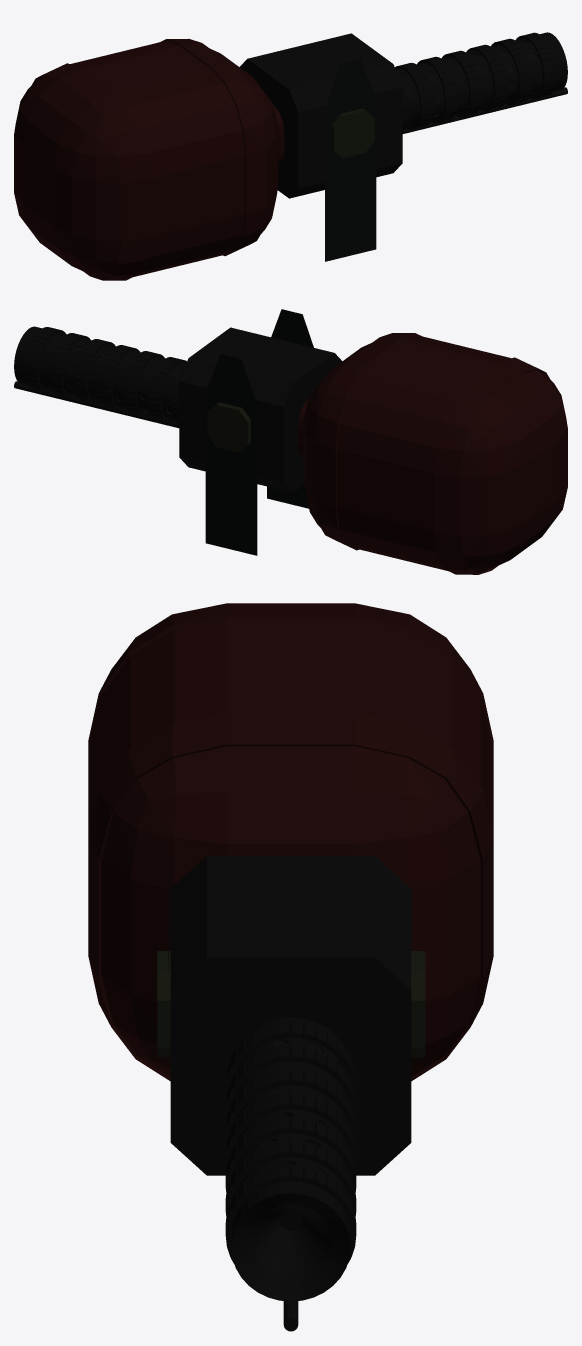
The model's file is Flamethrower(tank).obj.
3 renders of one model, top to bottom at view 1: azimuth 30°, elevation 25°; view 2: azimuth 150°, elevation 25°; view 3: azimuth 270°, elevation 25°, orthographic. The views are drawn at different scales.
Visible parts, largest first — view 1: 立方体, 立方体.001, 円柱, 平面, 立方体.002, 円柱.001; view 2: 立方体, 立方体.001, 円柱, 平面.001, 立方体.002, 平面, 円柱.001; view 3: 立方体, 立方体.001, 円柱, 立方体.002.
Boxes of the visible parts, left/top/right/bottom form: 立方体: left=14, top=38, right=284, bottom=280; 立方体.001: left=239, top=33, right=402, bottom=198; 円柱: left=395, top=32, right=567, bottom=131; 平面: left=325, top=59, right=376, bottom=261; 立方体.002: left=331, top=108, right=374, bottom=158; 円柱.001: left=402, top=87, right=567, bottom=133; 立方体: left=297, top=333, right=567, bottom=574; 立方体.001: left=179, top=327, right=342, bottom=492; 円柱: left=14, top=326, right=186, bottom=425; 平面.001: left=205, top=354, right=257, bottom=555; 立方体.002: left=207, top=402, right=250, bottom=452; 平面: left=267, top=309, right=313, bottom=508; 円柱.001: left=14, top=381, right=179, bottom=428; 立方体: left=88, top=603, right=493, bottom=1081; 立方体.001: left=170, top=855, right=411, bottom=1175; 円柱: left=225, top=1017, right=356, bottom=1301; 立方体.002: left=157, top=951, right=425, bottom=1057.
Bounding box in the file's own units: 17.48 × 6.57 × 5.82.
